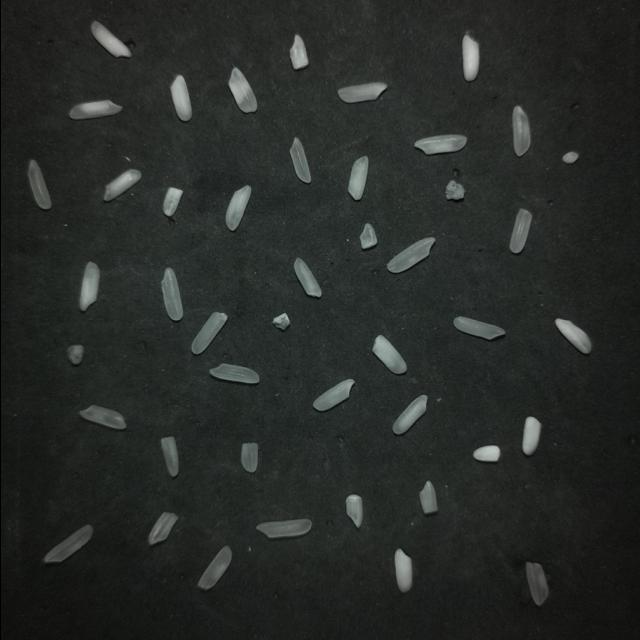broken: (148, 511, 177, 544), (160, 436, 178, 475), (289, 34, 307, 69), (419, 480, 436, 513), (162, 187, 182, 215), (358, 223, 377, 250), (240, 442, 257, 471), (444, 180, 464, 199), (561, 151, 578, 163)
chalky: (90, 20, 130, 57), (392, 394, 426, 434), (312, 378, 353, 410), (554, 318, 591, 353), (372, 335, 406, 373), (228, 66, 256, 112), (103, 169, 140, 200), (225, 185, 250, 230), (170, 75, 192, 122), (79, 261, 99, 310), (347, 157, 367, 200), (461, 33, 478, 80), (394, 548, 411, 591), (521, 416, 540, 454), (345, 494, 362, 527), (472, 445, 499, 461)
foreign: (66, 344, 83, 364), (272, 313, 289, 329)
whole: (43, 524, 92, 562), (386, 236, 434, 272), (191, 311, 226, 354), (197, 545, 231, 589), (452, 316, 504, 339), (27, 159, 50, 208), (161, 267, 182, 320), (79, 405, 125, 429), (337, 82, 387, 103), (414, 134, 466, 154), (256, 518, 310, 537), (293, 258, 320, 296), (69, 100, 121, 119), (525, 561, 547, 605), (509, 208, 531, 252), (289, 137, 310, 182), (209, 363, 258, 382), (511, 105, 529, 155)
